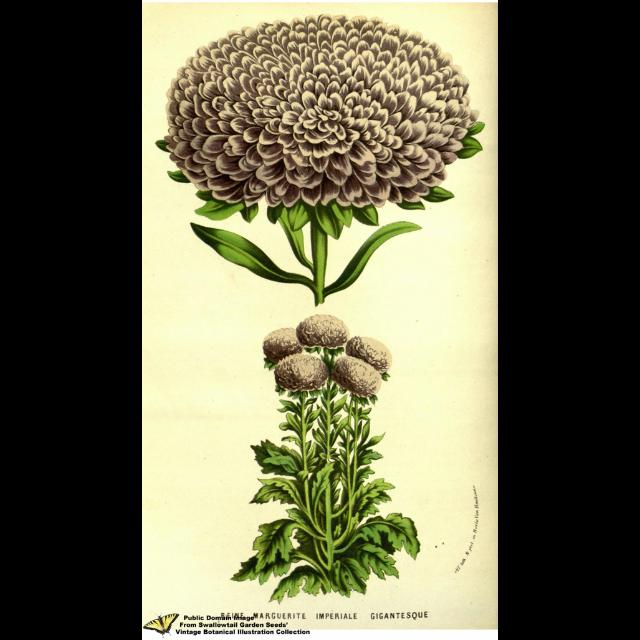Flower: (159, 9, 461, 203), (278, 344, 328, 396), (336, 354, 380, 398), (296, 315, 352, 349), (348, 334, 390, 372), (264, 324, 304, 358)
